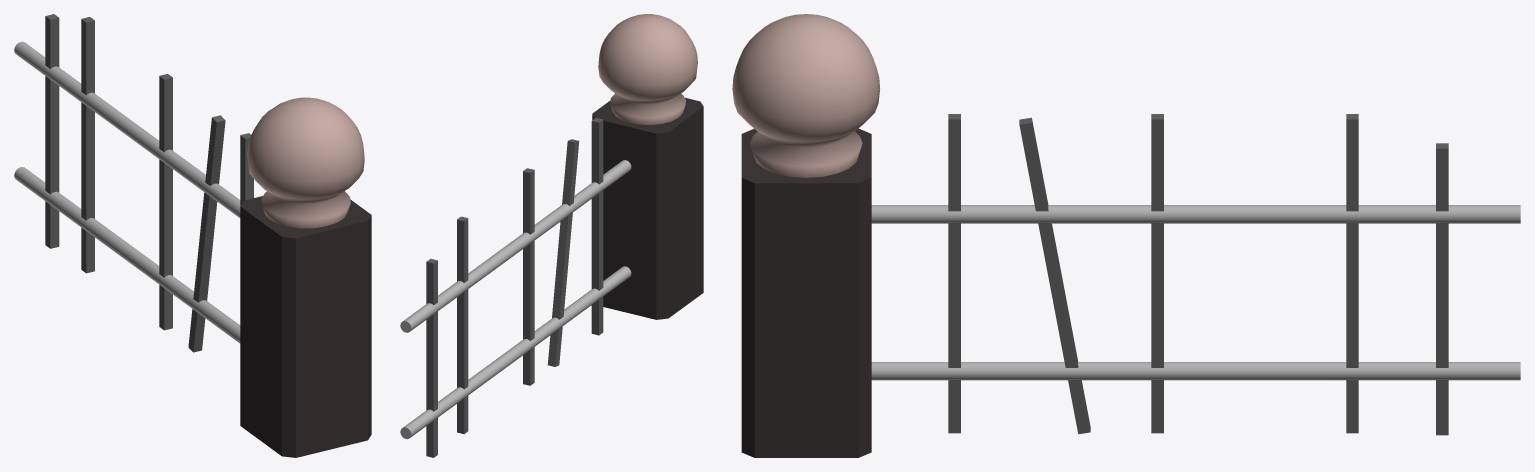
The model's file is fence_segment.fbx.
The picture shows the model from 3 angles, left to right: view 1: azimuth 30°, elevation 25°; view 2: azimuth 150°, elevation 25°; view 3: azimuth 270°, elevation 25°; orthographic projection. The views are drawn at different scales.
Visible parts, largest first — view 1: fence_segment; view 2: fence_segment; view 3: fence_segment.
Part boxes in pixels (left/top/right/bottom): fence_segment: left=14, top=14, right=371, bottom=457; fence_segment: left=400, top=14, right=703, bottom=457; fence_segment: left=732, top=14, right=1520, bottom=457.
Bounding box in the file's own units: 3.41 × 10.49 × 18.2.
